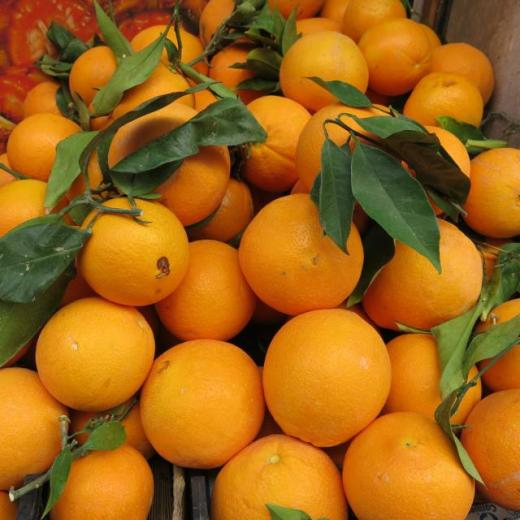Grape: (90, 98, 231, 228), (260, 308, 392, 441), (140, 336, 271, 467), (232, 189, 356, 310), (344, 413, 481, 520), (35, 296, 157, 413), (369, 218, 482, 333), (213, 430, 348, 520), (160, 240, 261, 339), (388, 329, 479, 422), (0, 365, 63, 488), (460, 388, 520, 511), (278, 30, 368, 109), (60, 443, 149, 517), (458, 147, 520, 237), (361, 19, 432, 89), (7, 117, 82, 181), (114, 59, 194, 118), (473, 292, 520, 392), (410, 74, 477, 142), (129, 24, 212, 72), (436, 39, 498, 99), (200, 176, 253, 242), (209, 44, 266, 101), (0, 179, 55, 236), (70, 48, 118, 104), (344, 0, 404, 43), (21, 80, 64, 117), (204, 1, 231, 44), (482, 243, 511, 278), (319, 0, 346, 24), (272, 5, 316, 19)
